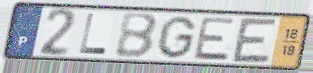2: (36, 5, 78, 60)
B: (114, 12, 160, 60)
E: (230, 16, 280, 65), (191, 16, 238, 63)
G: (154, 15, 199, 60)
L: (77, 12, 110, 56)
